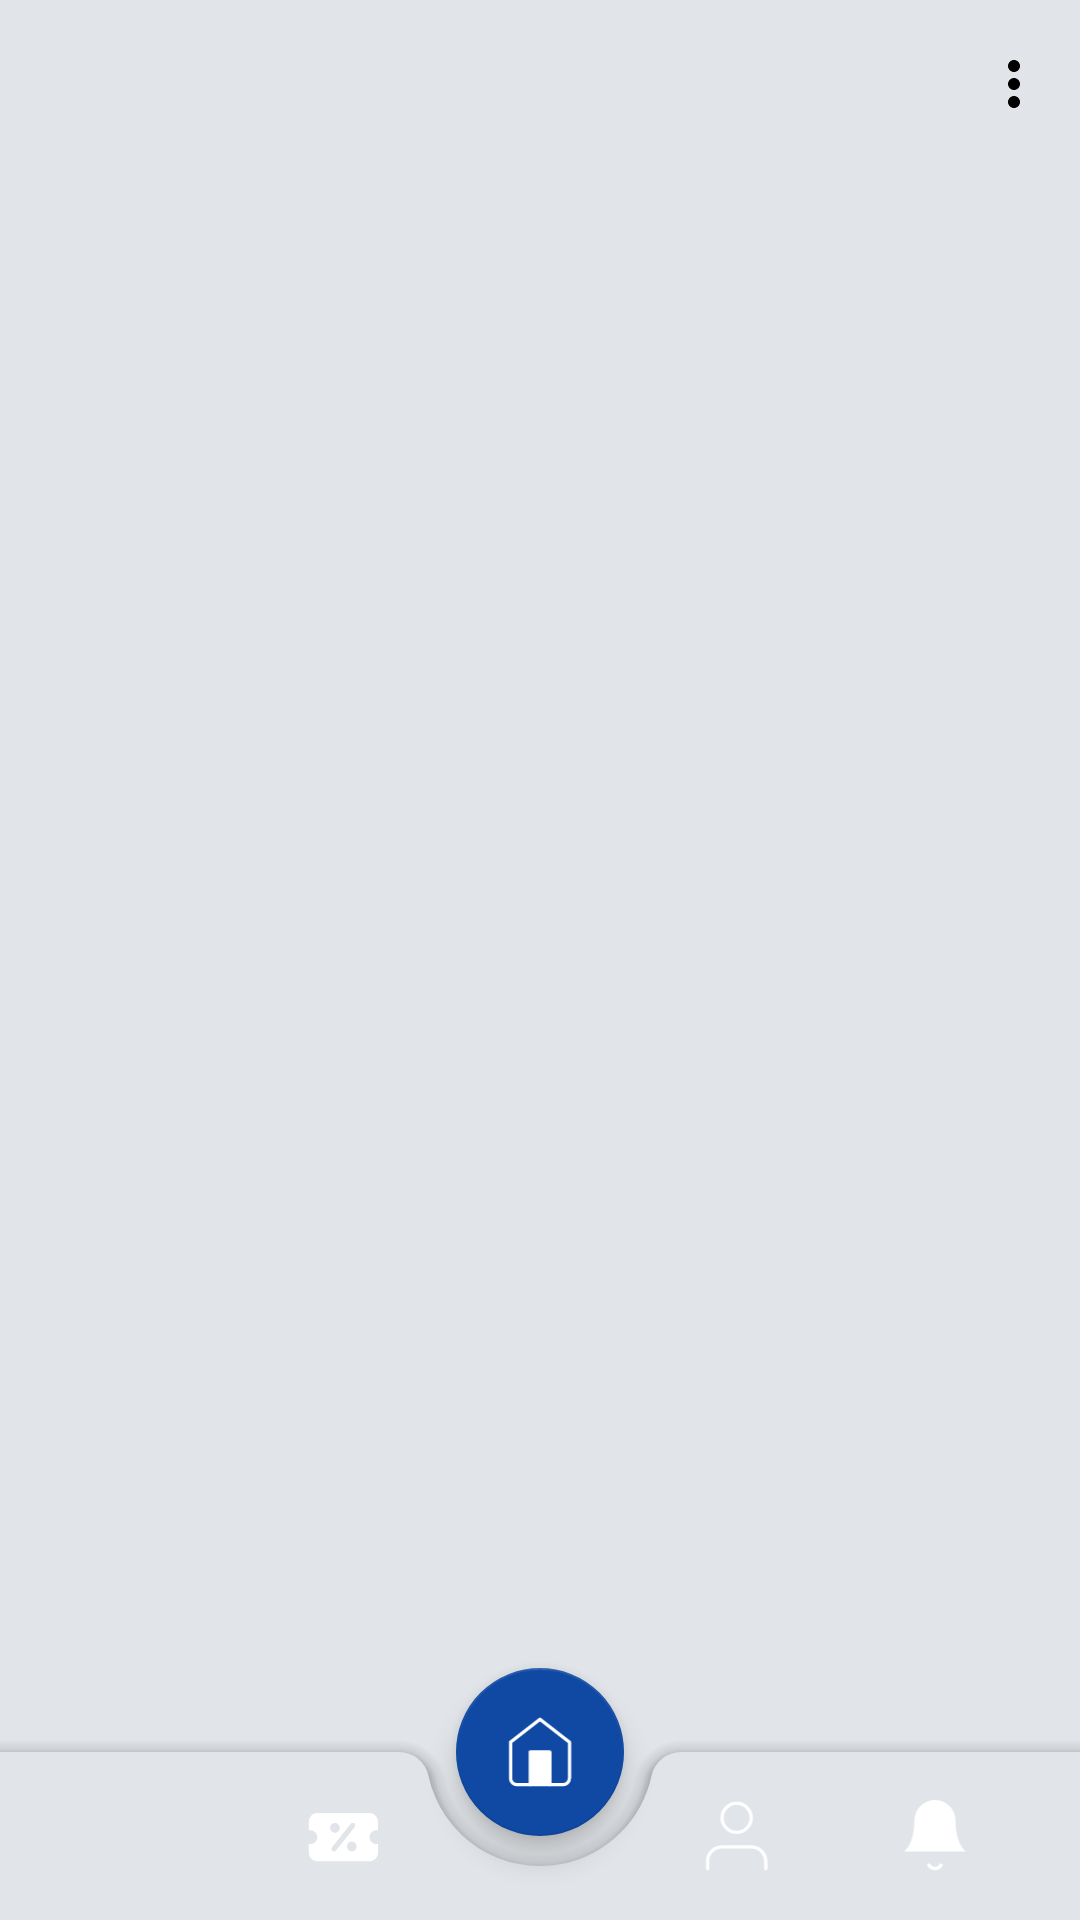

Icons on this 1080 × 1920 Android screen, each with its box as Rect(x1, y1, x2, y2):
home: Rect(456, 1668, 624, 1836)
